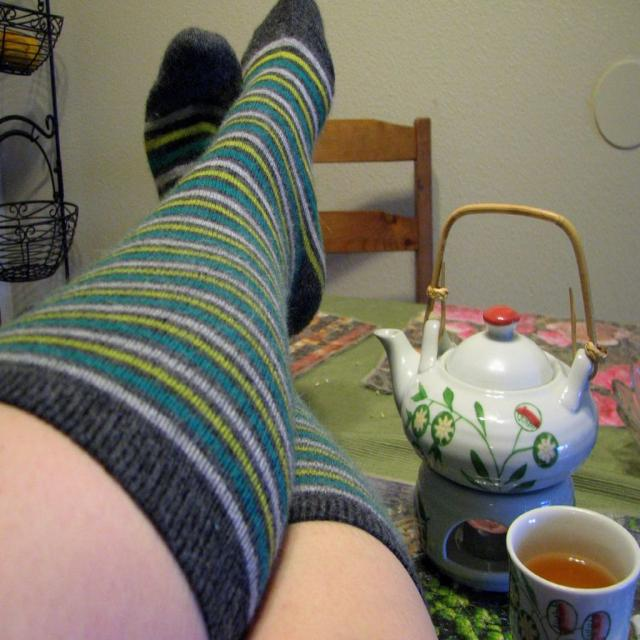Tea: (521, 556, 621, 592)
